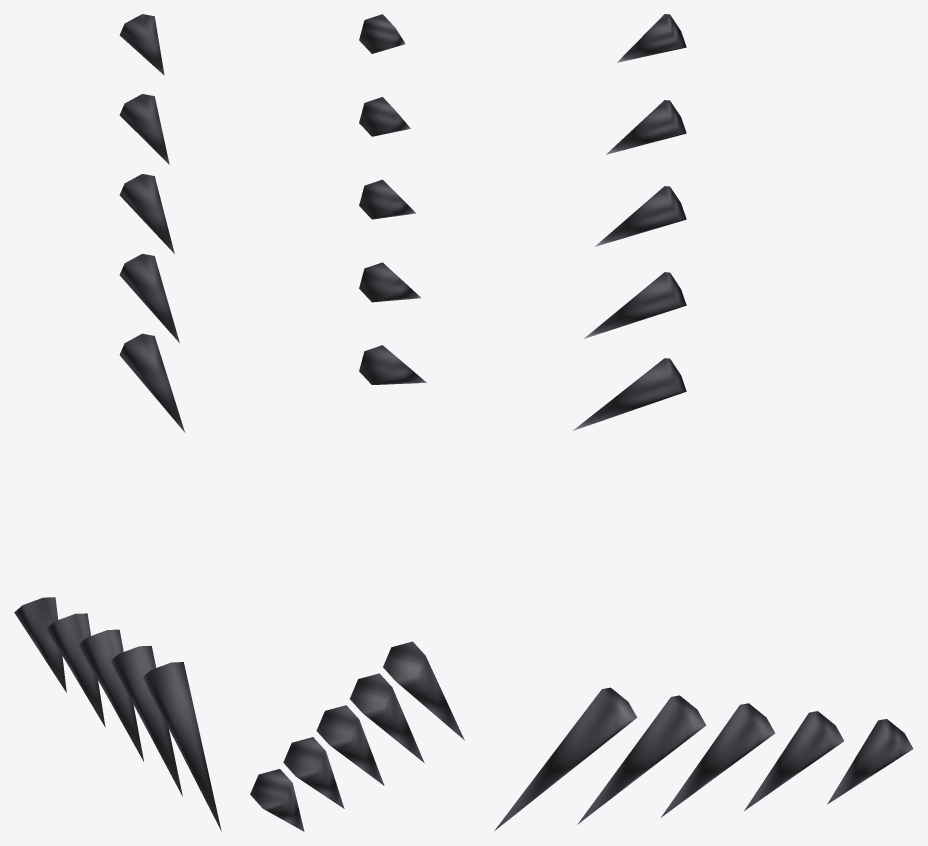
Rendered from parasite_brute_hunter.obj.
3 views of the same model, side by side, from view 1: azimuth 30°, elevation 25°; view 2: azimuth 150°, elevation 25°; view 3: azimuth 270°, elevation 25° (orthographic). The views are drawn at different scales.
Visible parts, largest first — view 1: brute_hunter; view 2: brute_hunter; view 3: brute_hunter.
Part boxes in pixels (<box>): brute_hunter: <box>14,14,221,831</box>; brute_hunter: <box>250,14,464,831</box>; brute_hunter: <box>494,14,913,831</box>.
Size of the model in its own units: 0.0596 by 1.31 by 0.6084.
